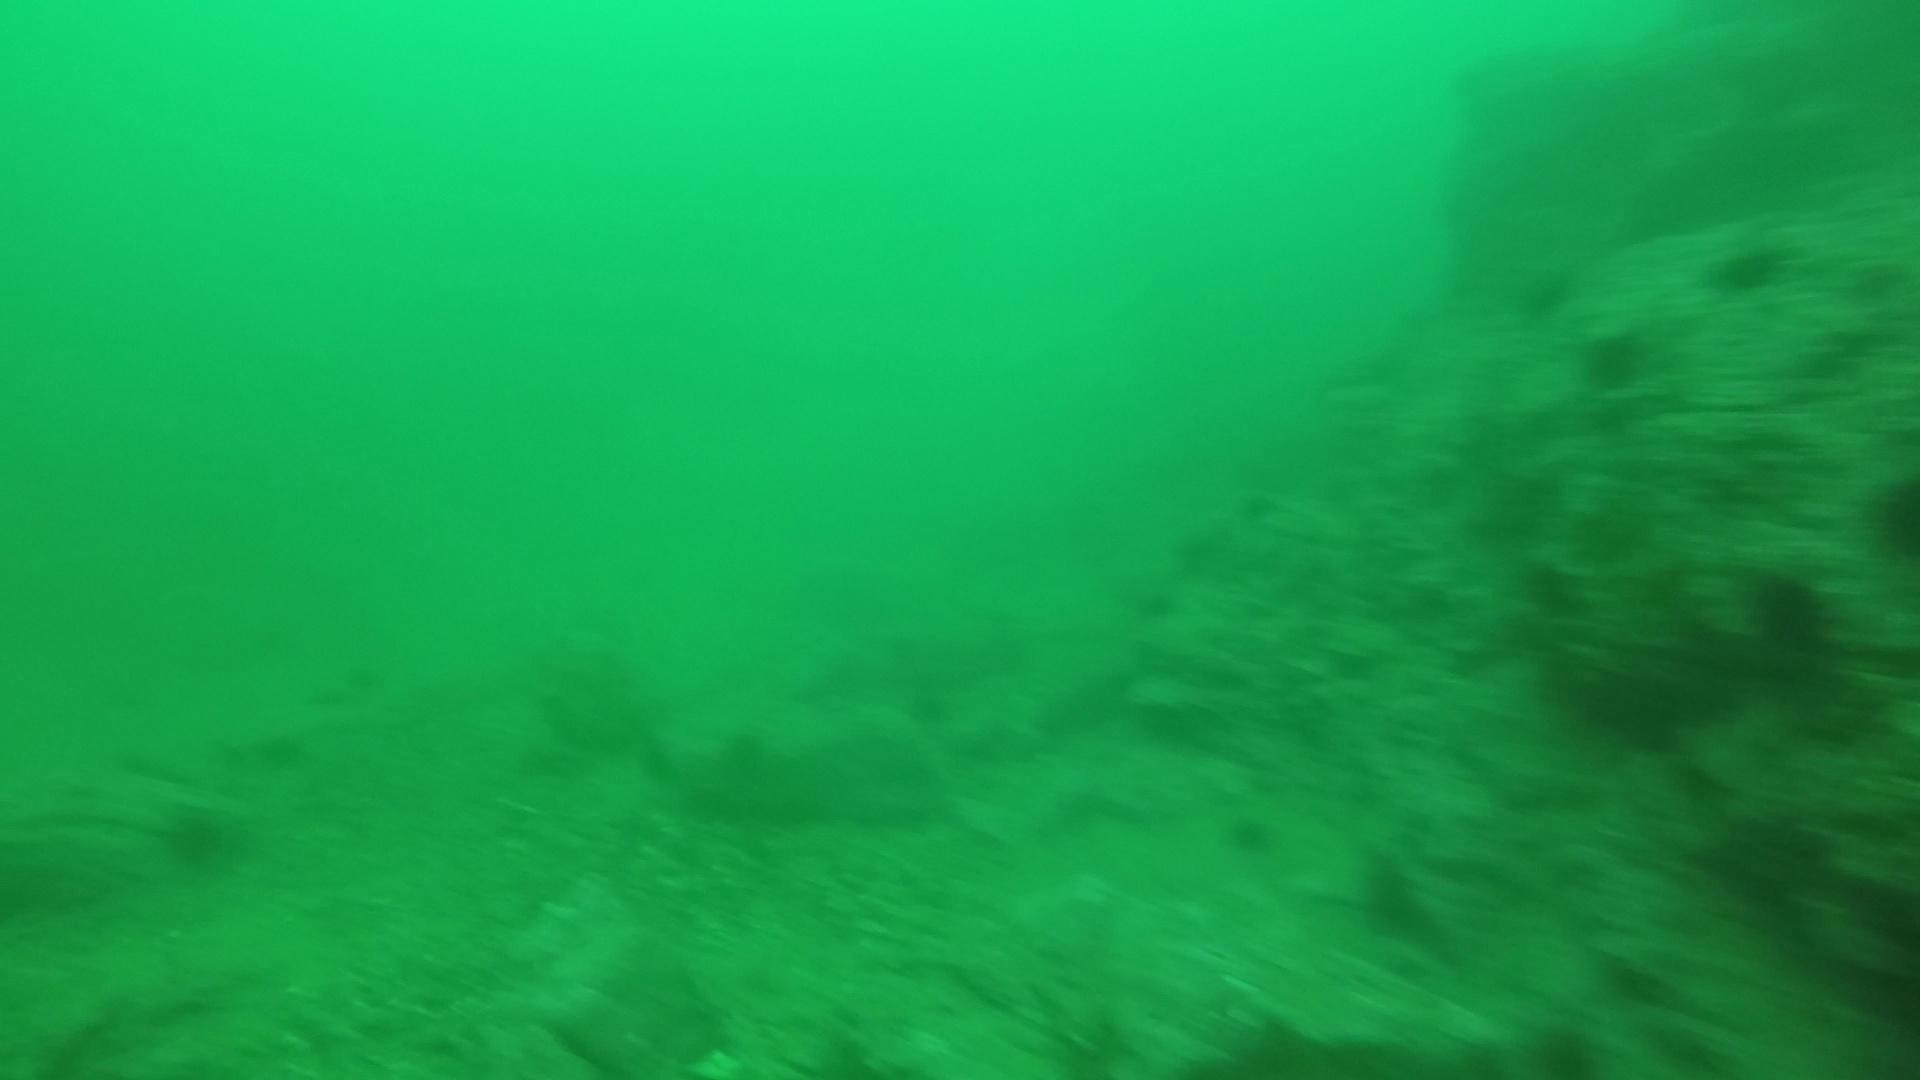echinus: (1742, 564, 1840, 657), (154, 796, 248, 876), (1575, 323, 1654, 396), (1704, 233, 1791, 299), (1862, 465, 1920, 564), (1524, 1018, 1606, 1080)
